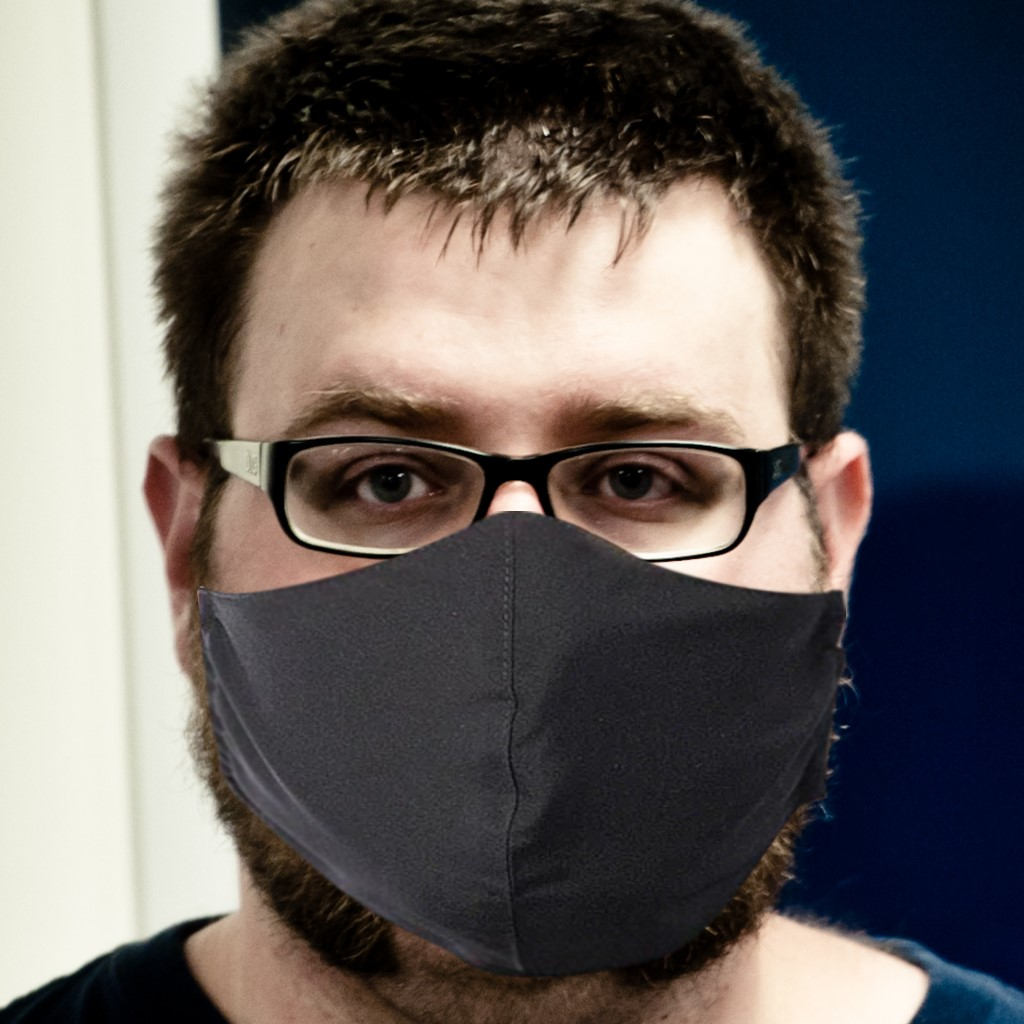con_mascara: (163, 93, 862, 1006)
